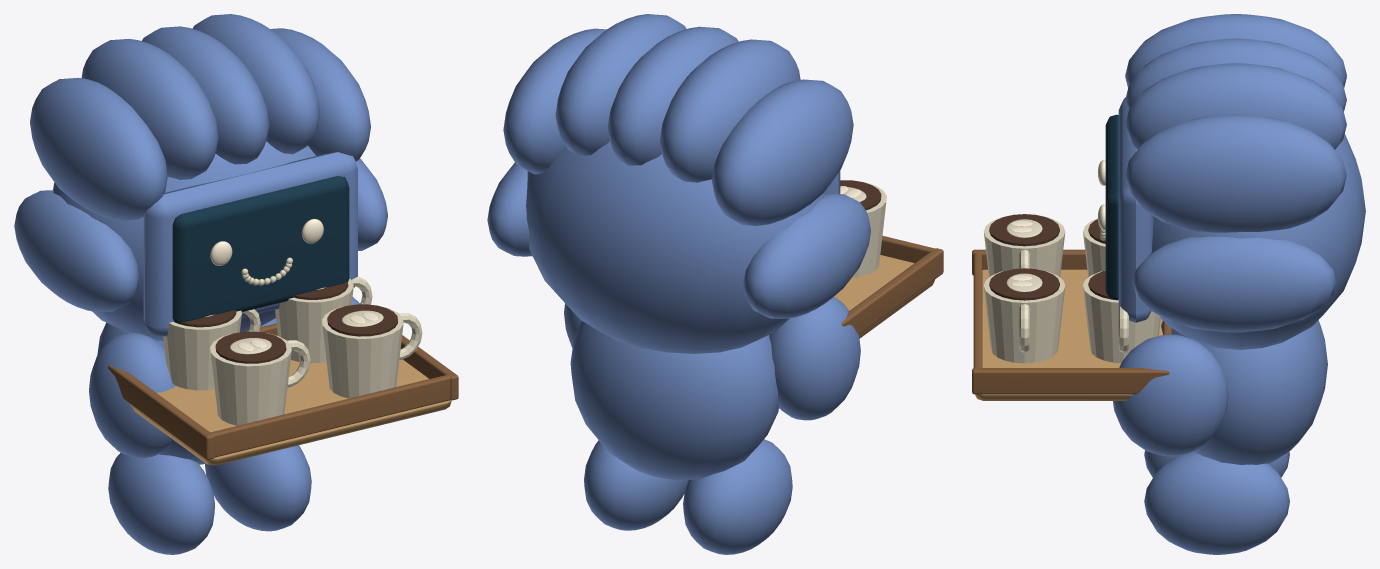
File: courier.glb
The picture shows the model from 3 angles, left to right: view 1: azimuth 30°, elevation 25°; view 2: azimuth 150°, elevation 25°; view 3: azimuth 270°, elevation 25°; orthographic projection. The views are drawn at different scales.
Visible parts, largest first — view 1: face, hood scallop, Side curl, hood scallop.001, face rim, foot_L, hood scallop.003, hood scallop.002, arm_L, foot_R, tray, tray rim.002 (+14 smaller); view 2: hood, body, hood scallop, hood scallop.001, Side curl, foot_L, arm_L, hood scallop.003, hood scallop.002, hood scallop.004, foot_R, Side curl.001 (+5 smaller); view 3: hood scallop.004, Side curl.001, body, foot_R, hood scallop.003, arm_R, hood, hood scallop.002, hood scallop.001, tray, tray rim.001, Cup_4 pottery (+11 smaller).
Boxes of the visible parts, left/top/right/bottom form: face: left=172, top=176, right=349, bottom=323; hood scallop: left=30, top=77, right=167, bottom=220; Side curl: left=14, top=190, right=138, bottom=312; hood scallop.001: left=81, top=38, right=218, bottom=179; face rim: left=143, top=152, right=357, bottom=336; foot_L: left=108, top=452, right=214, bottom=554; hood scallop.003: left=192, top=14, right=320, bottom=154; hood scallop.002: left=142, top=26, right=269, bottom=164; arm_L: left=89, top=333, right=175, bottom=458; foot_R: left=205, top=445, right=311, bottom=531; tray: left=130, top=359, right=451, bottom=465; tray rim.002: left=208, top=374, right=451, bottom=457; hood: left=526, top=141, right=824, bottom=353; body: left=570, top=321, right=779, bottom=480; hood scallop: left=712, top=79, right=853, bottom=225; hood scallop.001: left=660, top=39, right=800, bottom=182; Side curl: left=743, top=193, right=870, bottom=318; foot_L: left=683, top=439, right=792, bottom=554; arm_L: left=769, top=297, right=860, bottom=420; hood scallop.003: left=555, top=14, right=686, bottom=156; hood scallop.002: left=607, top=26, right=738, bottom=165; hood scallop.004: left=503, top=28, right=606, bottom=174; foot_R: left=584, top=440, right=688, bottom=530; Side curl.001: left=487, top=162, right=532, bottom=256; hood scallop.004: left=1125, top=114, right=1346, bottom=232; Side curl.001: left=1132, top=236, right=1336, bottom=332; body: left=1161, top=320, right=1327, bottom=464; foot_R: left=1144, top=452, right=1289, bottom=554; hood scallop.003: left=1125, top=63, right=1346, bottom=149; arm_R: left=1113, top=334, right=1228, bottom=456; hood: left=1151, top=133, right=1365, bottom=349; hood scallop.002: left=1125, top=38, right=1346, bottom=111; hood scallop.001: left=1125, top=14, right=1346, bottom=86; tray: left=975, top=269, right=1162, bottom=400; tray rim.001: left=972, top=368, right=1169, bottom=394; Cup_4 pottery: left=983, top=269, right=1065, bottom=363.
Size of the model in its own units: 1.26 by 1.84 by 1.35.
